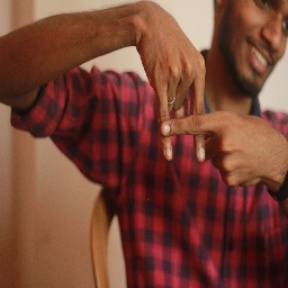H: (136, 71, 241, 180)
